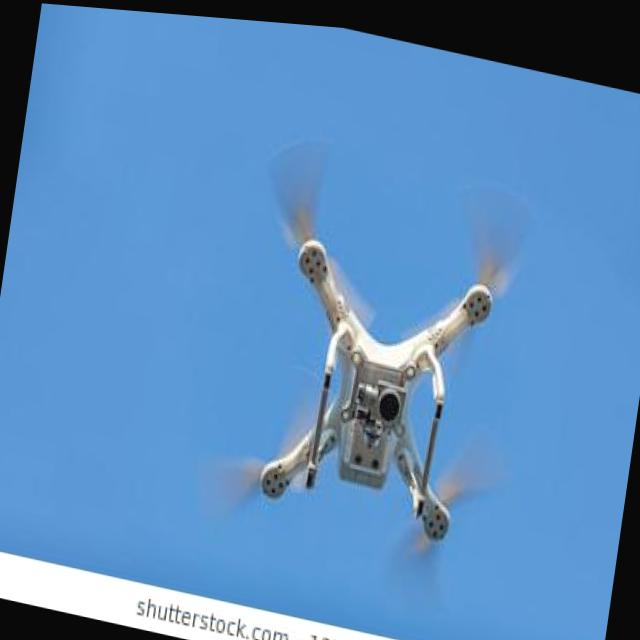drone: (198, 100, 574, 609)
